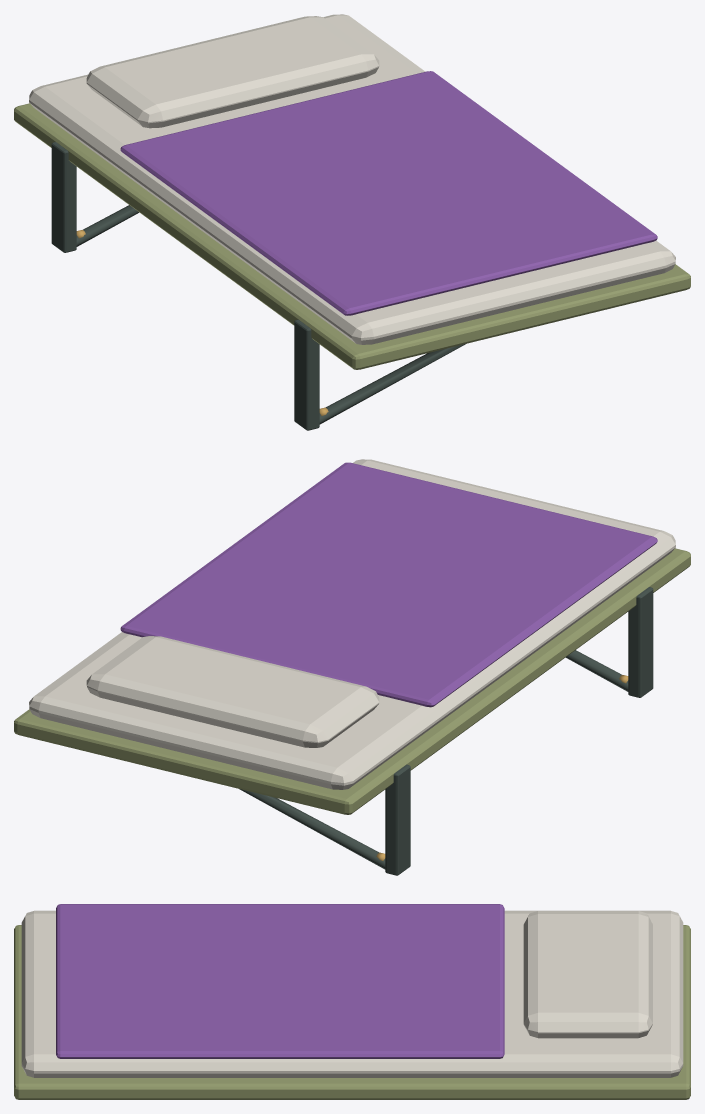
The model's file is trixie-wide-bunk.glb.
3 views of the same model, one above another, from view 1: azimuth 30°, elevation 25°; view 2: azimuth 150°, elevation 25°; view 3: azimuth 270°, elevation 25° (orthographic).
Visible parts, largest first — view 1: folded purple cover.003, thin mattress.003, small flat pillow.003, wall bunk platform.003, wall bracket plate.006, wall bracket plate.007, triangular bunk bracket.006, triangular bunk bracket.007; view 2: folded purple cover.003, thin mattress.003, small flat pillow.003, wall bunk platform.003, wall bracket plate.007, wall bracket plate.006, triangular bunk bracket.007, triangular bunk bracket.006; view 3: folded purple cover.003, thin mattress.003, wall bunk platform.003, small flat pillow.003.
Part boxes in pixels (bbox=[...]): folded purple cover.003: bbox=[120, 71, 657, 315]; thin mattress.003: bbox=[29, 14, 675, 344]; small flat pillow.003: bbox=[86, 16, 379, 128]; wall bunk platform.003: bbox=[14, 103, 690, 369]; wall bracket plate.006: bbox=[294, 319, 319, 430]; wall bracket plate.007: bbox=[51, 142, 76, 252]; triangular bunk bracket.006: bbox=[319, 343, 466, 424]; triangular bunk bracket.007: bbox=[76, 205, 138, 246]; folded purple cover.003: bbox=[120, 462, 657, 707]; thin mattress.003: bbox=[29, 459, 675, 789]; small flat pillow.003: bbox=[86, 636, 379, 747]; wall bunk platform.003: bbox=[14, 548, 690, 814]; wall bracket plate.007: bbox=[385, 764, 410, 875]; wall bracket plate.006: bbox=[628, 587, 653, 697]; triangular bunk bracket.007: bbox=[239, 789, 385, 869]; triangular bunk bracket.006: bbox=[566, 650, 628, 691]; folded purple cover.003: bbox=[56, 904, 504, 1058]; thin mattress.003: bbox=[21, 910, 683, 1077]; wall bunk platform.003: bbox=[14, 925, 690, 1099]; small flat pillow.003: bbox=[523, 910, 652, 1038].
Bounding box in the file's own units: 1.27 × 0.527 × 2.2.
